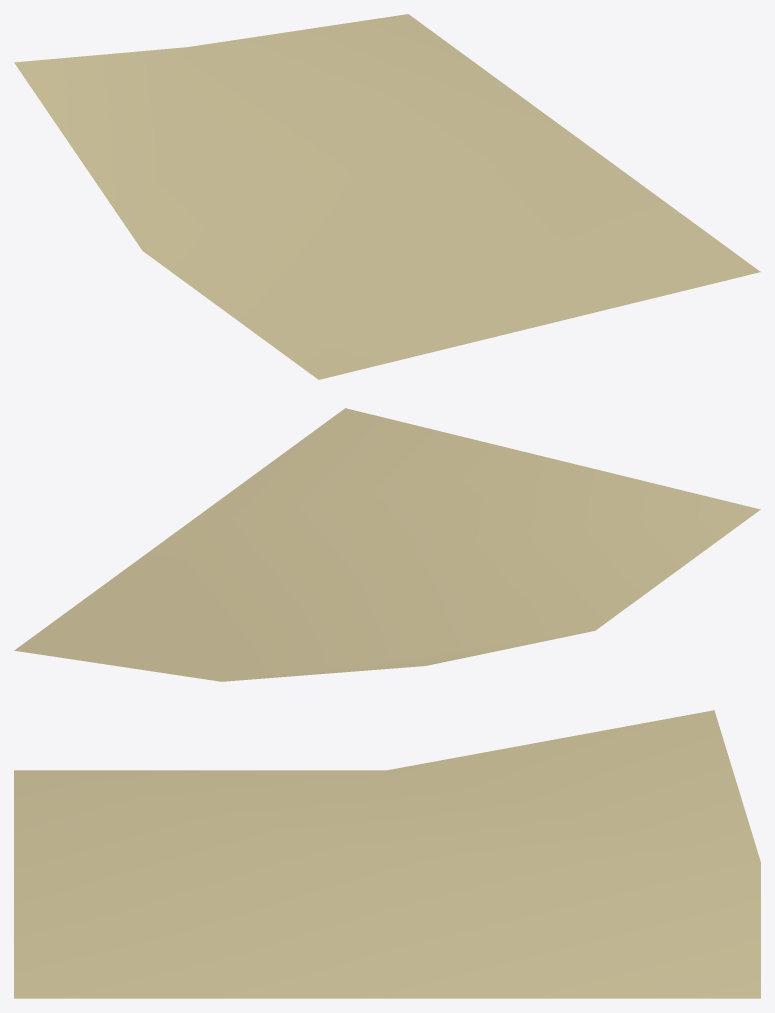
The model's file is SM_Paper_02.fbx.
The picture shows the model from 3 angles, top to bottom: view 1: azimuth 30°, elevation 25°; view 2: azimuth 150°, elevation 25°; view 3: azimuth 270°, elevation 25°; orthographic projection. The views are drawn at different scales.
Parts seen in each view (by area): view 1: SM_Paper_02; view 2: SM_Paper_02; view 3: SM_Paper_02.
Part boxes in pixels (x1,y1,x2,y2): SM_Paper_02: (14,14,760,379); SM_Paper_02: (14,408,760,681); SM_Paper_02: (14,710,760,998).
Bounding box in the file's own units: 21 × 3.14 × 29.
